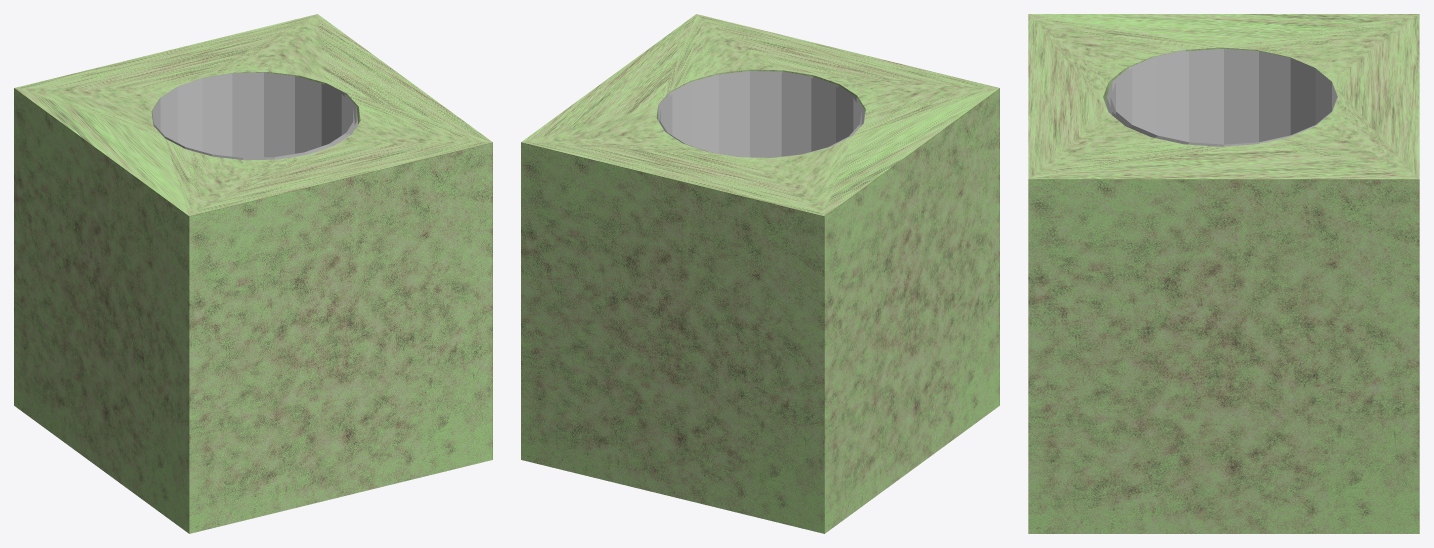
3 renders of one model, left to right at view 1: azimuth 30°, elevation 25°; view 2: azimuth 150°, elevation 25°; view 3: azimuth 270°, elevation 25°, orthographic. The views are drawn at different scales.
Visible parts, largest first — view 1: Cube, Cylinder.001; view 2: Cube, Cylinder.001, Cylinder; view 3: Cube, Cylinder.001, Cylinder.
Part boxes in pixels (box(x1,y1,x2,y2)): Cube: box(14, 14, 492, 533); Cylinder.001: box(152, 72, 354, 159); Cube: box(521, 14, 999, 533); Cylinder.001: box(659, 72, 861, 157); Cylinder: box(658, 71, 864, 124); Cube: box(1028, 14, 1419, 533); Cylinder.001: box(1110, 48, 1337, 146); Cylinder: box(1106, 50, 1257, 146).
Bounding box in the file's own units: 100 × 100 × 100.
